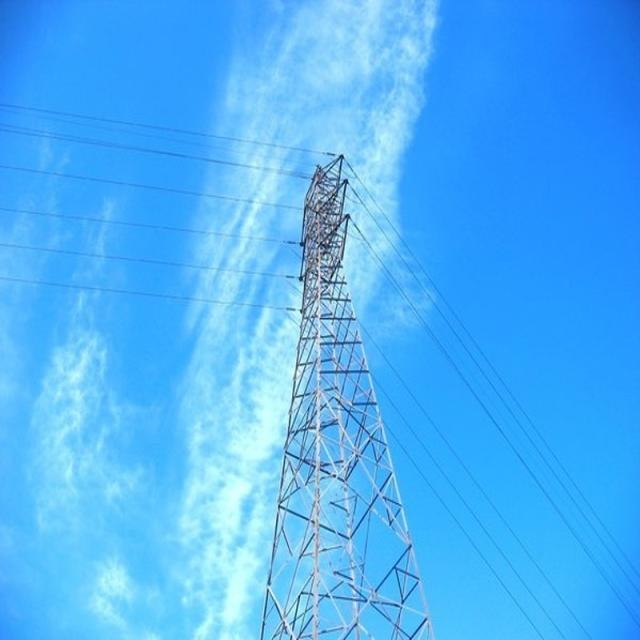non-critical vegetation: (270, 165, 420, 637)
